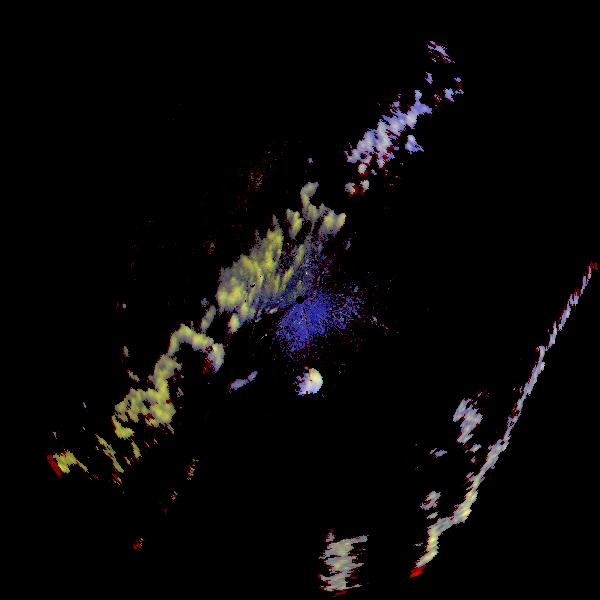roost: (290, 365, 323, 398)
